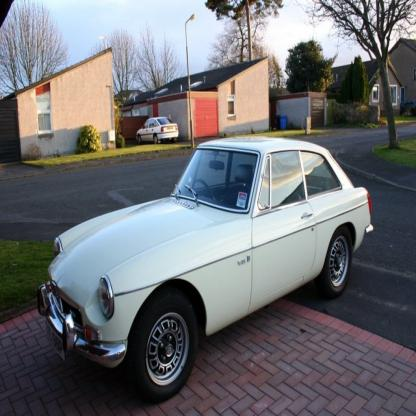Car: (38, 137, 374, 402), (138, 117, 180, 145)
